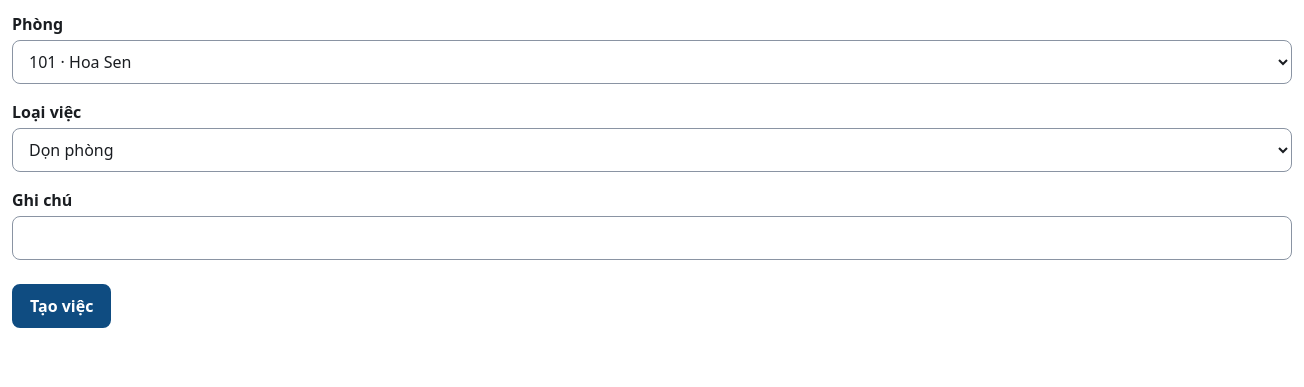
Test case: CommandForm › lỗi nghiệp vụ 4xx: hiện đúng thông điệp server (role=alert), không làm mới trang, nút mở lại
Click the button "Tạo việc". click: {"x": 62, "y": 306}
box: [12,284,111,328]
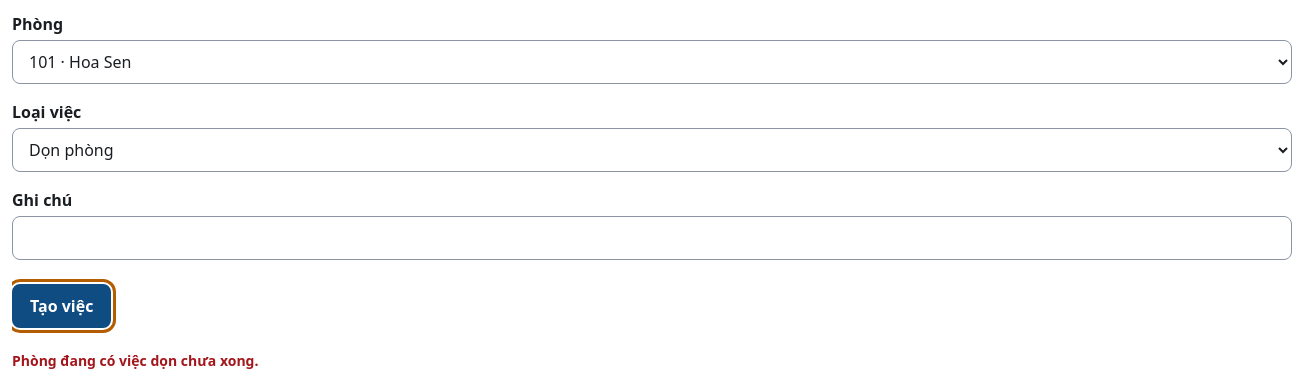
Now the message reads "Phòng đang có việc dọn chưa xong.", box [12,351,258,370]
